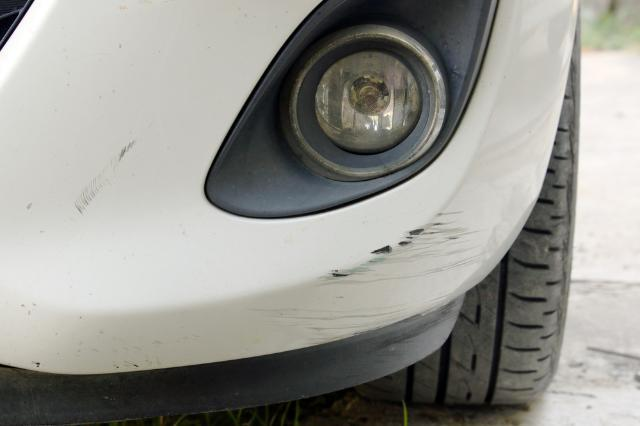scratch: (253, 202, 490, 341)
